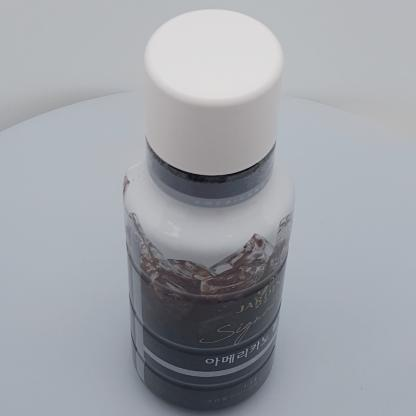-------------1-1L: (122, 10, 295, 413)
